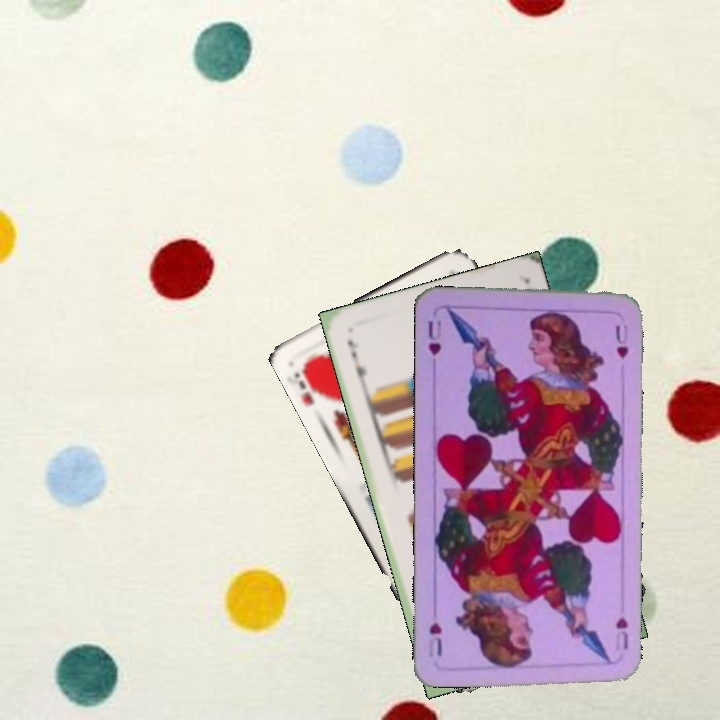E7: (343, 335, 370, 389)
HK: (289, 358, 330, 408)
HU: (424, 316, 444, 358), (612, 612, 631, 653)
